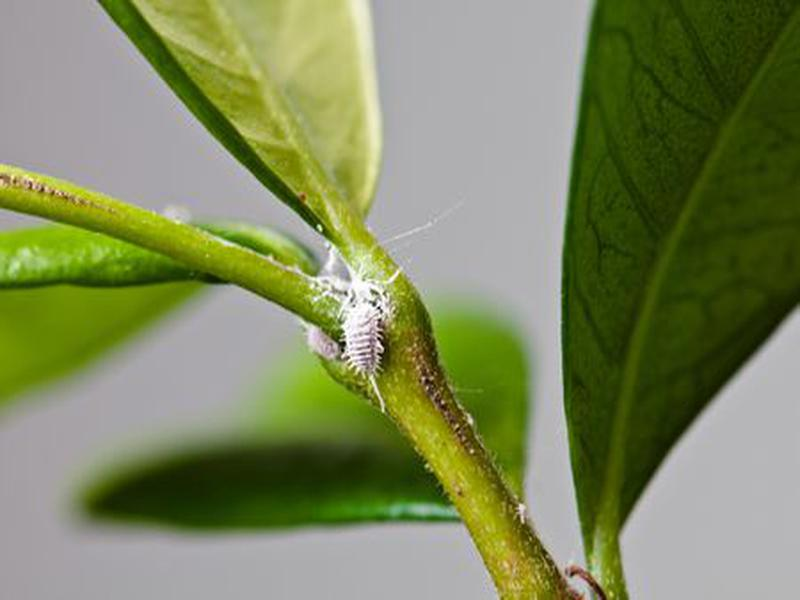Mealy_bug: (299, 249, 410, 387)
